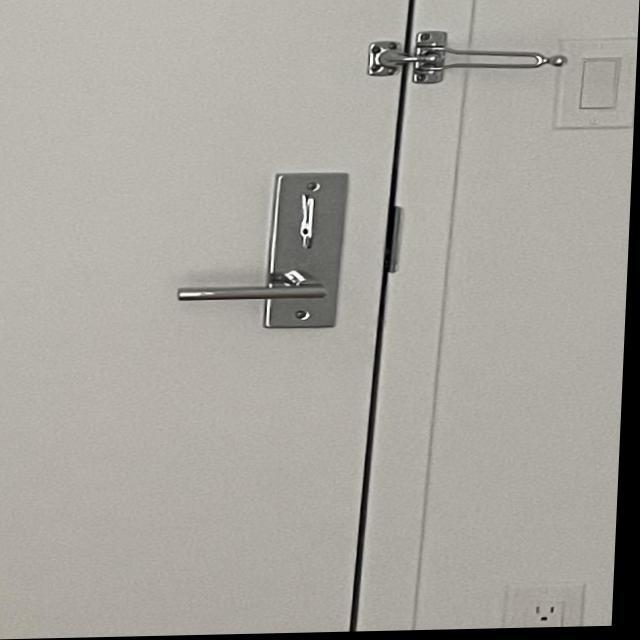door_handle: (165, 260, 358, 324)
